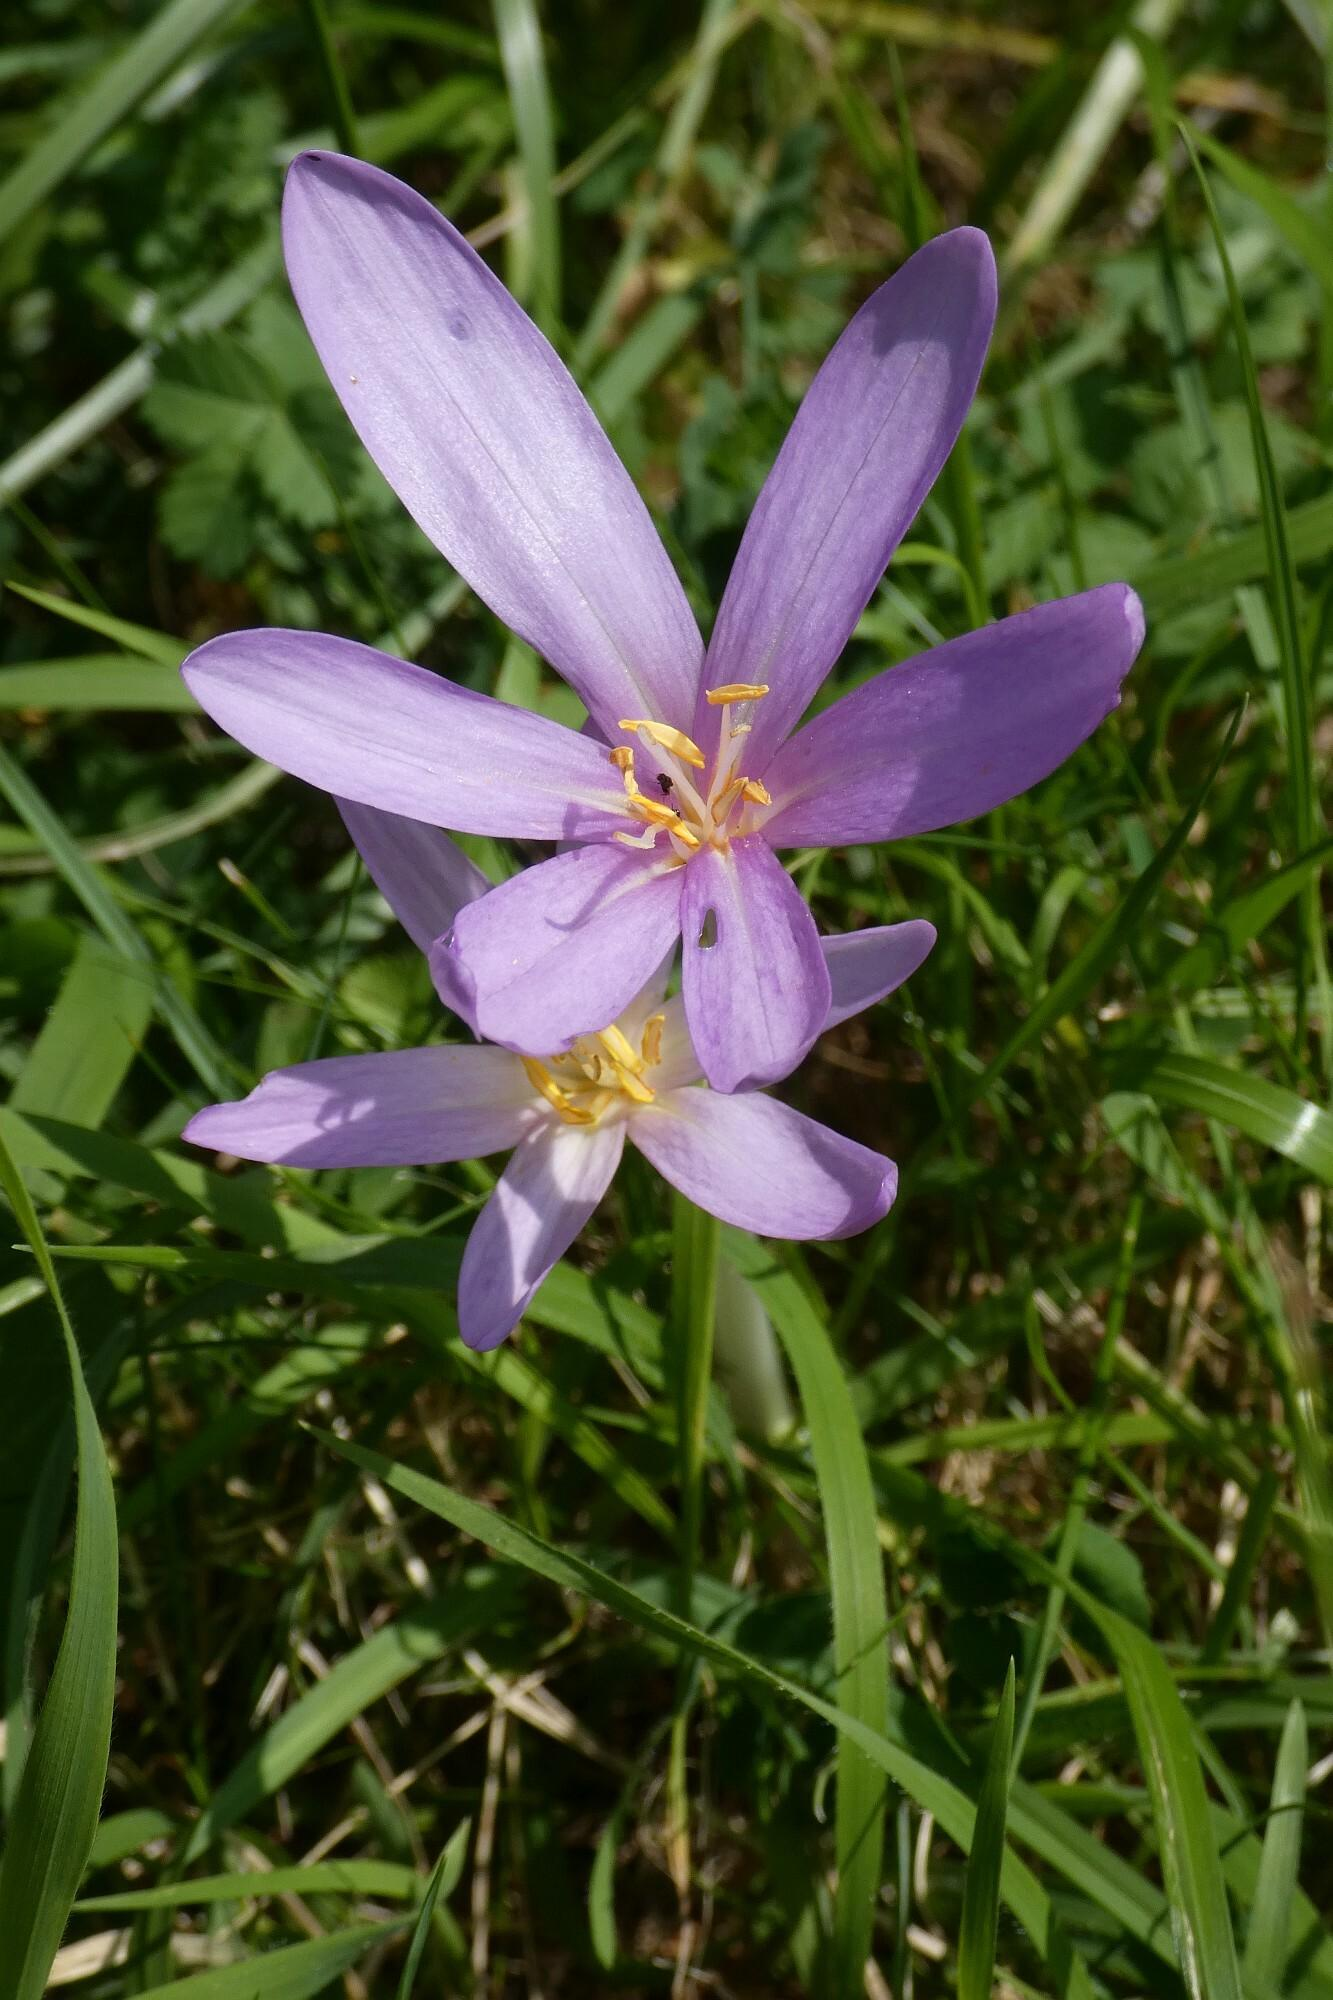Colchicum autumnale L: (192, 144, 1186, 1478)
